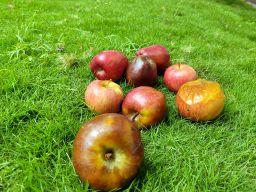apple: (68, 108, 151, 192), (169, 69, 233, 127), (119, 81, 169, 131), (75, 76, 127, 116), (86, 46, 133, 83), (157, 59, 208, 93), (122, 53, 166, 89), (136, 37, 172, 69)
